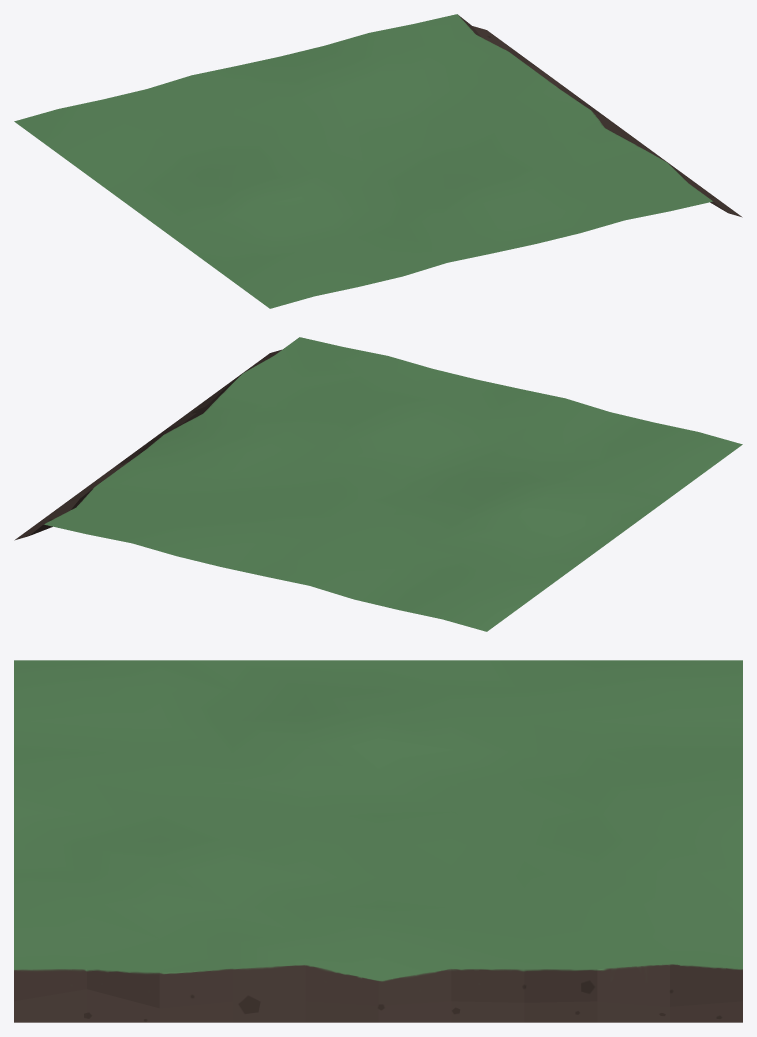
Rendered from GroundCollider.fbx.
3 views of the same model, one above another, from view 1: azimuth 30°, elevation 25°; view 2: azimuth 150°, elevation 25°; view 3: azimuth 270°, elevation 25° (orthographic). The views are drawn at different scales.
Visible parts, largest first — view 1: GroundCollider; view 2: GroundCollider; view 3: GroundCollider.
Part boxes in pixels (box(x1,y1,x2,y2)): GroundCollider: box(14, 14, 742, 308); GroundCollider: box(14, 337, 742, 631); GroundCollider: box(14, 660, 742, 1022).
Bounding box in the file's own units: 63.97 × 3.96 × 60.
